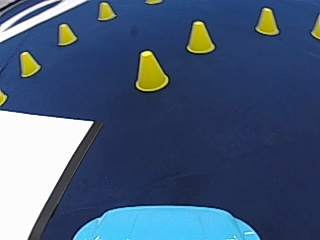cone: (134, 49, 168, 91), (185, 20, 215, 53), (254, 6, 279, 35), (18, 51, 39, 76), (57, 23, 76, 45), (97, 1, 115, 20), (310, 13, 319, 40)
